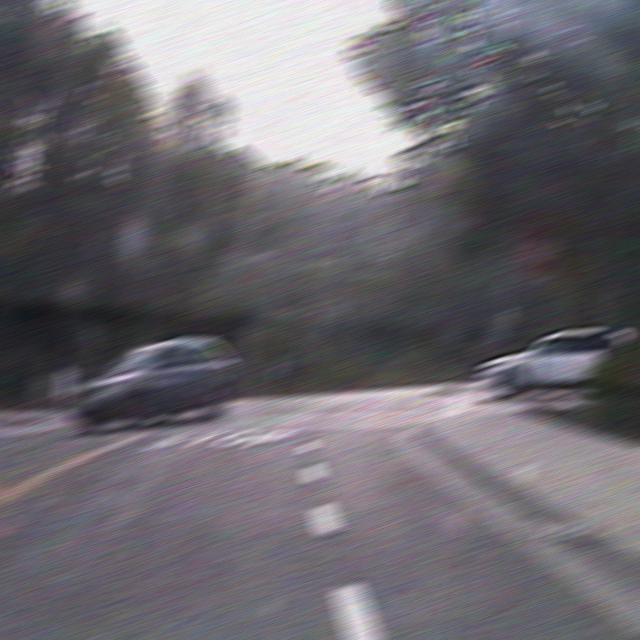stop: (512, 218, 562, 283)
